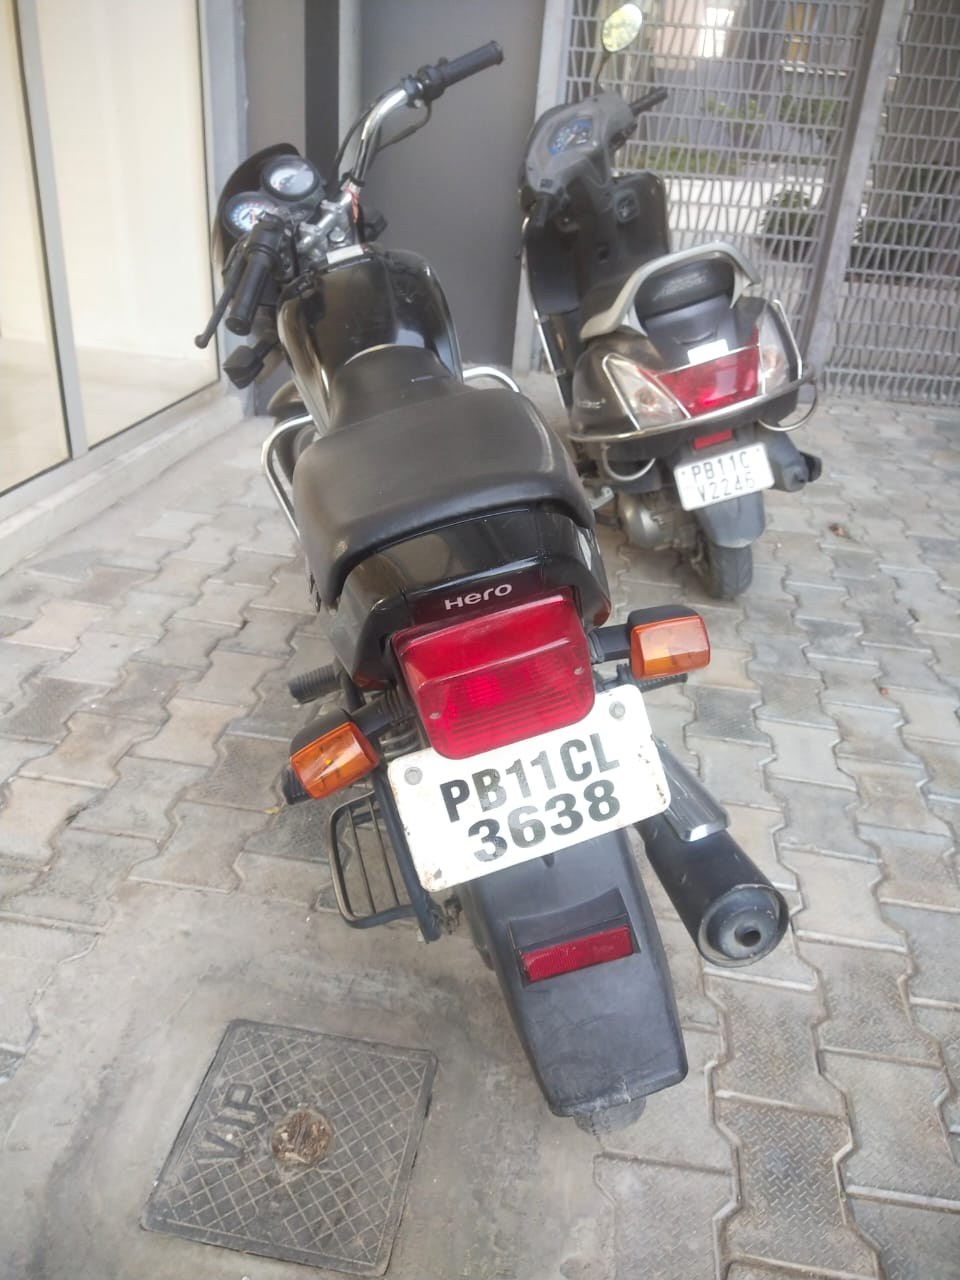license plate: (388, 684, 669, 890), (674, 443, 773, 510)
